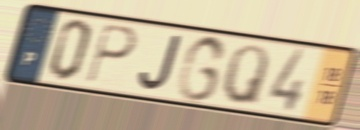0: (46, 16, 94, 84)
4: (266, 47, 306, 116)
G: (174, 33, 230, 104)
J: (136, 34, 185, 93)
P: (83, 21, 139, 86)
Q: (219, 42, 272, 110)
